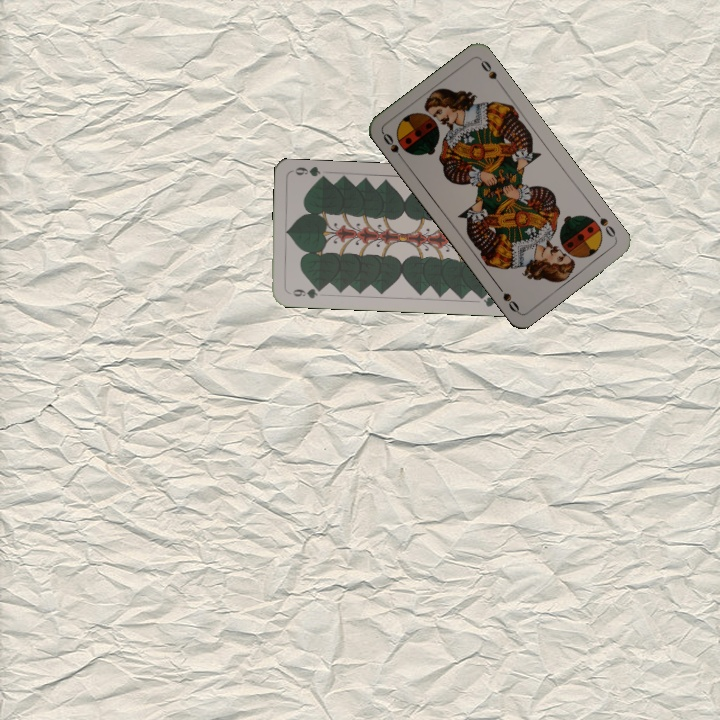G9: (284, 284, 325, 301)
SO: (590, 206, 619, 241), (379, 129, 407, 165)
